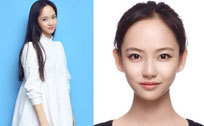unmask: (121, 25, 179, 94), (37, 5, 62, 34)
